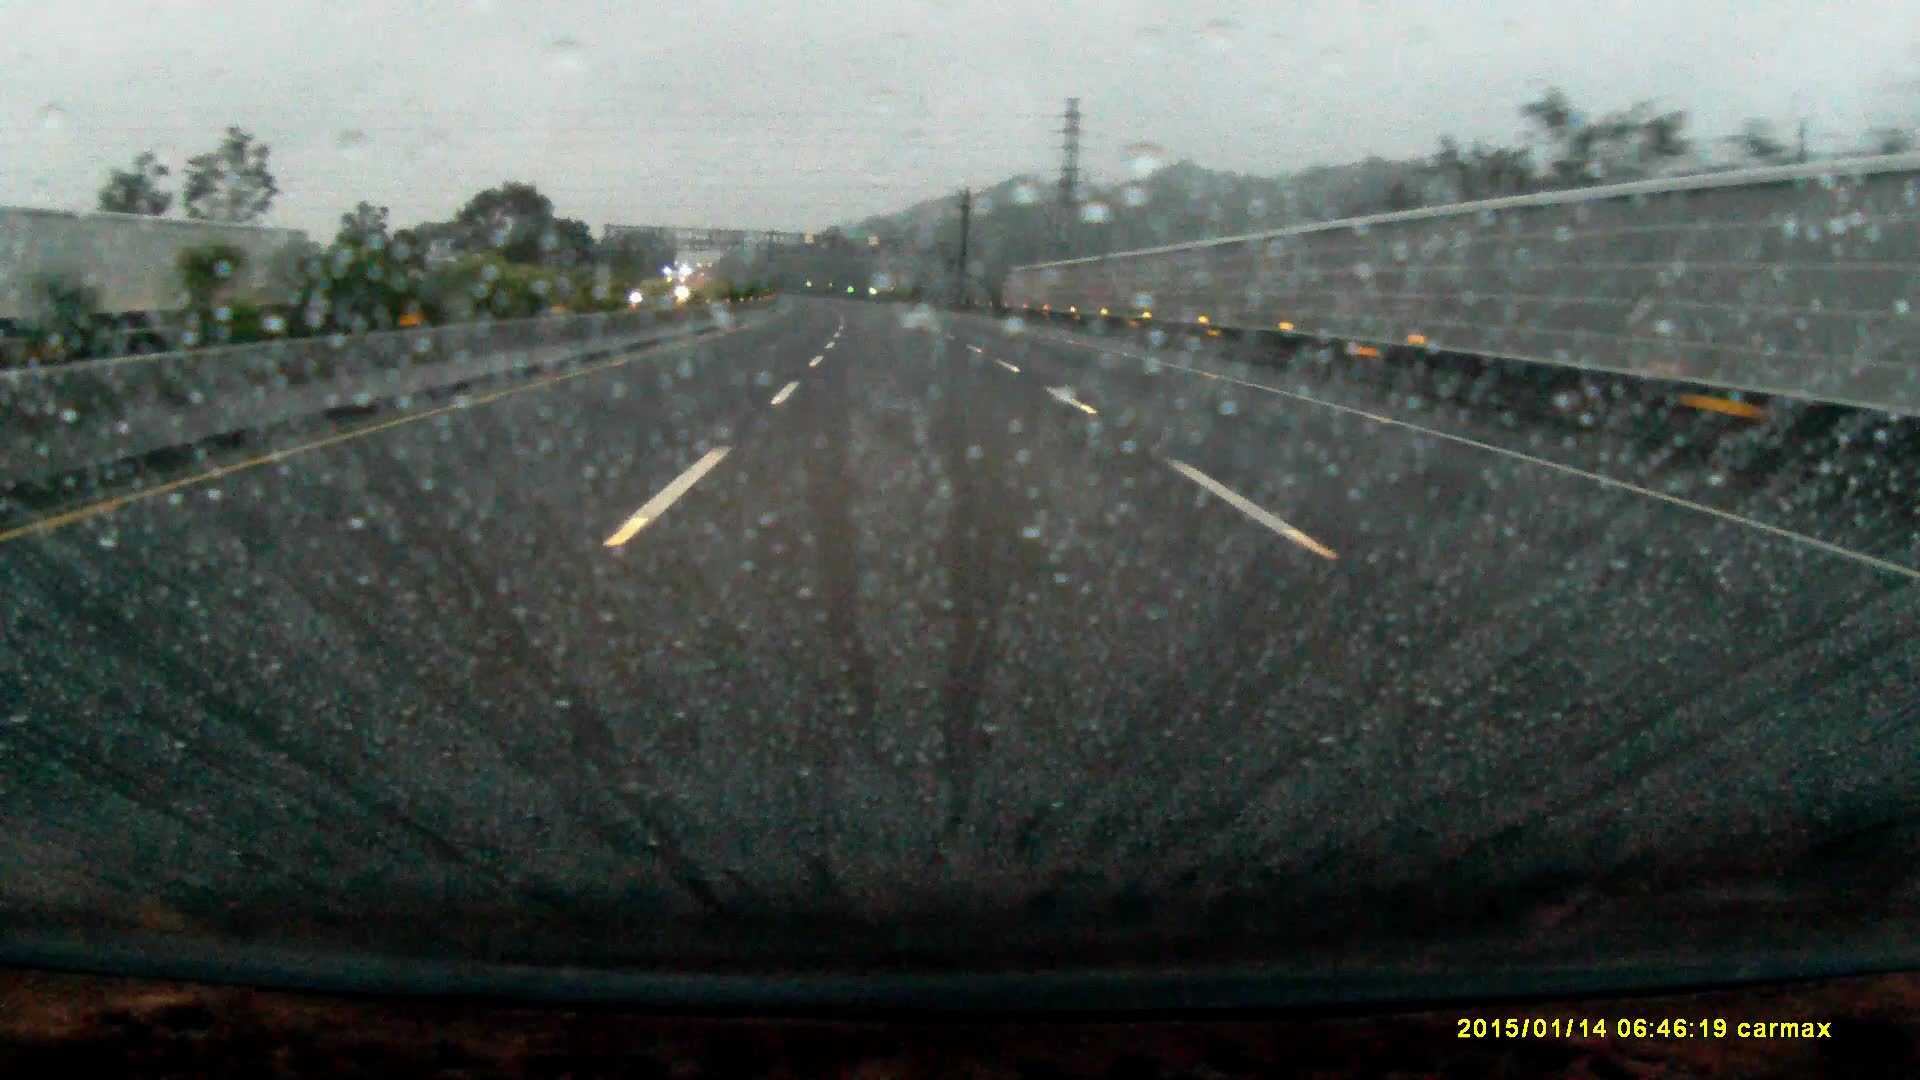vehicle: (661, 269, 698, 303)
